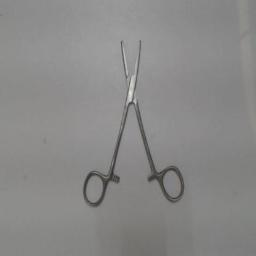Mayo Needle Holder: (80, 32, 186, 210)
